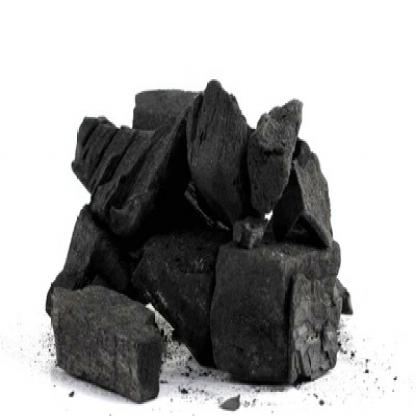Sedimentary_coal: (204, 234, 366, 378), (66, 112, 194, 254), (46, 275, 172, 390), (238, 64, 322, 216)
